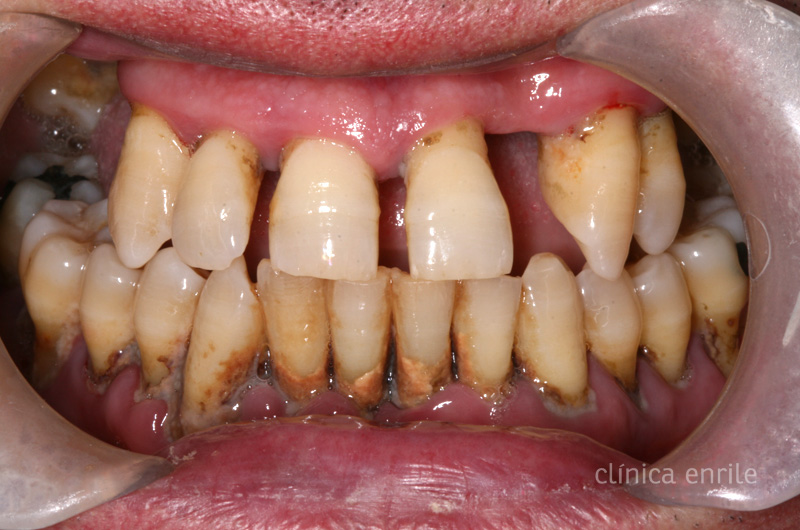LL1BC_decay: (576, 261, 646, 397)
LL1M_decay: (691, 234, 742, 361)
LL2BC_decay: (634, 252, 697, 389)
LLCI_decay: (397, 281, 457, 406)
LLC_decay: (523, 260, 597, 419)
LLLI_decay: (458, 275, 519, 399)
LR1BC_decay: (81, 263, 135, 384)
LR1M_decay: (22, 219, 84, 357)
LRCI_decay: (264, 286, 330, 401)
LRC_decay: (134, 269, 203, 395)
LRLI_decay: (179, 259, 260, 435)
ULCI_decay: (400, 124, 518, 280)
ULC_decay: (639, 116, 687, 255)
ULLI_decay: (536, 96, 637, 279)
UR1BC_decay: (329, 283, 397, 421)
URCI_healthy: (271, 127, 390, 282)
URC_healthy: (105, 110, 186, 265)
URLI_decay: (170, 123, 267, 271)
